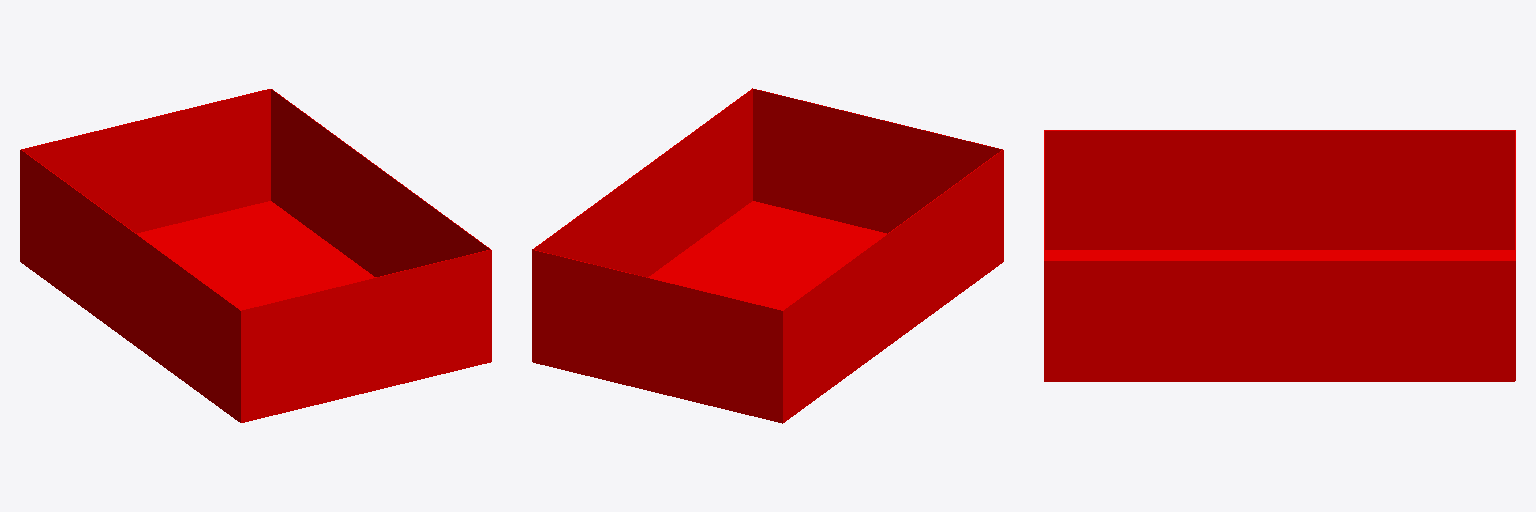
The robot description file, URDF, robot "square.urdf":
<?xml version="1.0" ?>
<robot name="square.urdf">
  <link name="baseLink">
    <contact>
      <lateral_friction value="1.0"/>
      <inertia_scaling value="3.0"/>
    </contact>
    <inertial>
      <origin rpy="0 0 0" xyz="0 0 0"/>
       <mass value=".1"/>
       <inertia ixx="1" ixy="0" ixz="0" iyy="1" iyz="0" izz="1"/>
    </inertial>
    <visual>
      <origin rpy="0 0 0" xyz="0 0 0"/>
      <geometry>
        <mesh filename="13.stl" scale="1 1 1" />
      </geometry>
      <material name="red">
        <color rgba="1 0 0 1"/>
      </material>
    </visual>
    <collision>
      <origin rpy="0 0 0" xyz="0 0 0"/>
      <geometry>
        <mesh filename="13_convex.obj" scale="1 1 1" />
      </geometry>
    </collision>
  </link>
</robot>

--- What the picture shows (computed from the rendered views, not written in the file) ---
The picture shows the robot from 3 angles, left to right: view 1: azimuth 30°, elevation 25°; view 2: azimuth 150°, elevation 25°; view 3: azimuth 270°, elevation 25°; orthographic projection.
Model square.urdf with 1 links and 0 joints (none), rooted at baseLink, posed all joints at 0.
Visible links, largest first — view 1: baseLink; view 2: baseLink; view 3: baseLink.
Boxes of the visible links, bbox=[...] form: baseLink: bbox=[20, 89, 491, 422]; baseLink: bbox=[532, 88, 1003, 423]; baseLink: bbox=[1044, 130, 1515, 381].
Size in the robot's own frame: 0.3512 by 0.5347 by 0.1508 metres.
1 mesh visuals loaded from 1 distinct referenced files (1 binary STL).